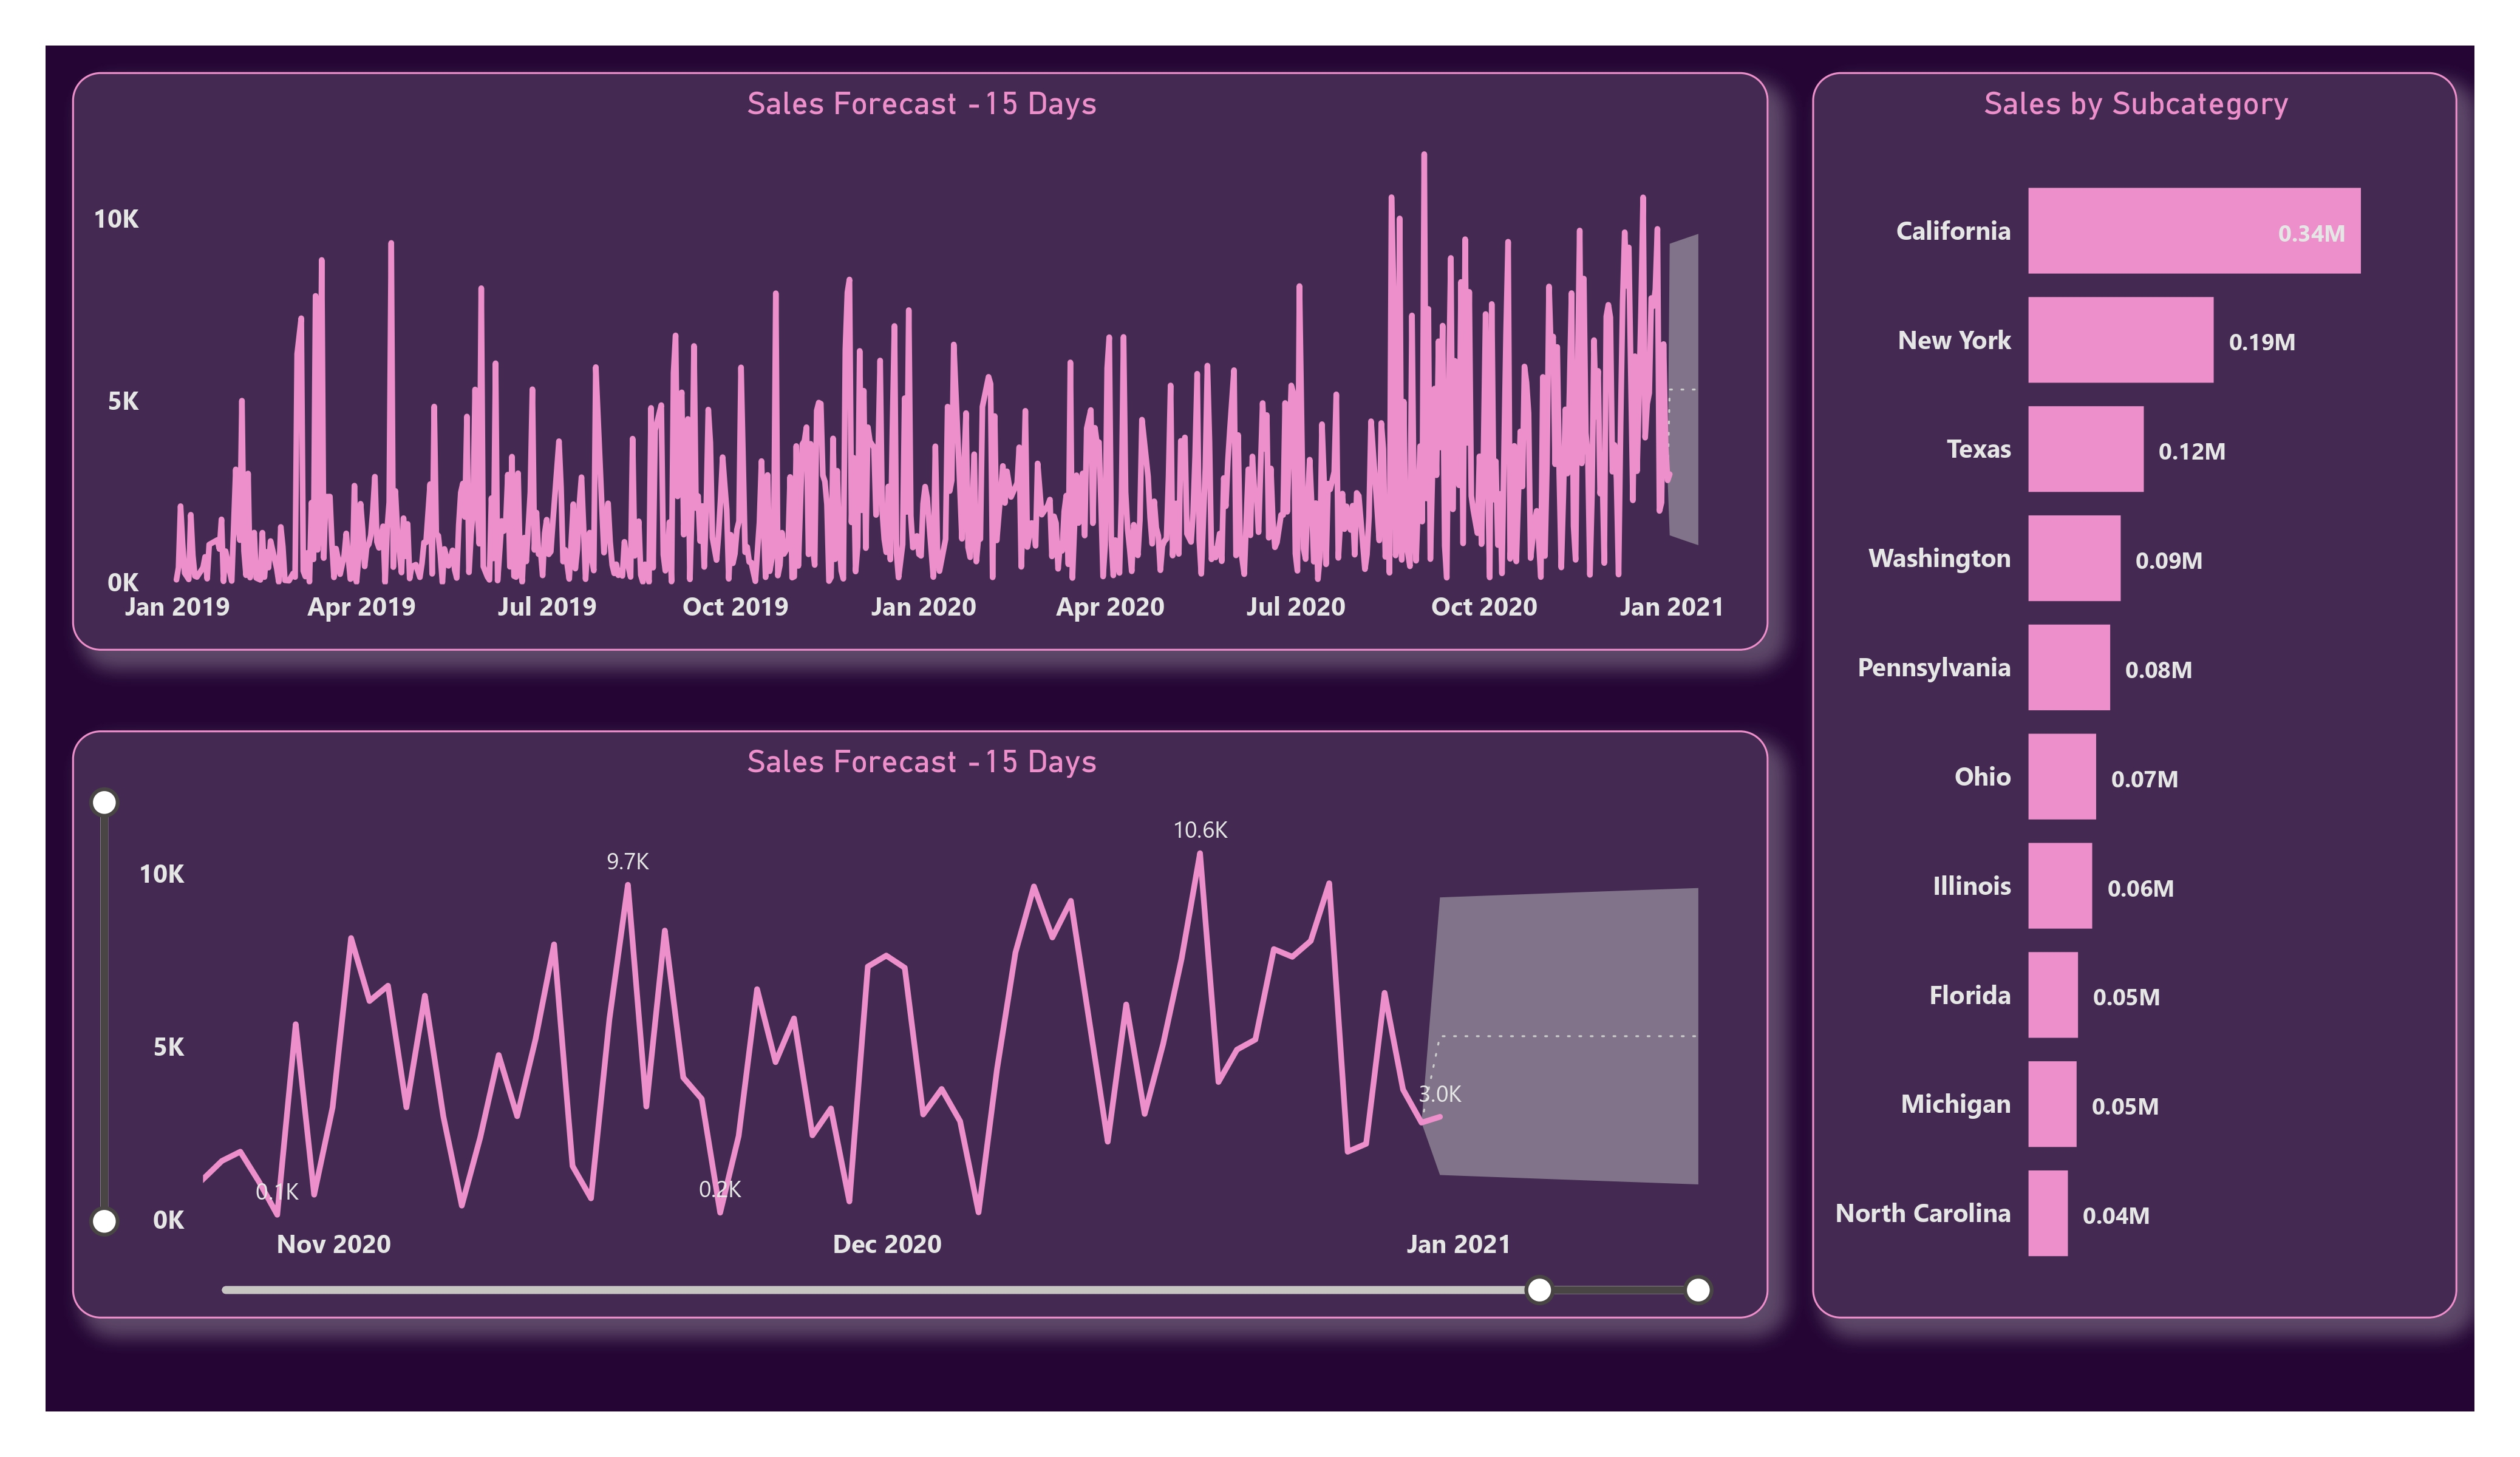

What the dashboard file says about the page in this screenshot:
{"tool":"powerbi","page":{"name":"Sales Forecast","canvas":[1280,720],"ordinal":1},"visuals":[{"type":"lineChart","title":"Sales Forecast -15 Days","fields":{"Y":["Sum(Sheet1.Sales)"],"Category":["Sheet1.Order Date"]},"box":[14.3,14.3,893.8,304.7],"z":0},{"type":"lineChart","title":"Sales Forecast -15 Days","fields":{"Y":["Sum(Sheet1.Sales)"],"Category":["Sheet1.Order Date"]},"box":[14.3,360.6,893.8,310.6],"z":1000},{"type":"clusteredBarChart","title":"Sales by Subcategory","fields":{"Category":["Sheet1.State"],"Y":["Sum(Sheet1.Sales)"]},"box":[930.6,14.3,340.4,656.9],"z":2000}]}

Visuals, with their boxes in screenshot pixels (x1, y1, x2, y2):
"Sales Forecast -15 Days" lineChart: locate(73, 73, 1769, 651)
"Sales Forecast -15 Days" lineChart: locate(73, 730, 1769, 1319)
"Sales by Subcategory" clusteredBarChart: locate(1811, 73, 2457, 1319)
